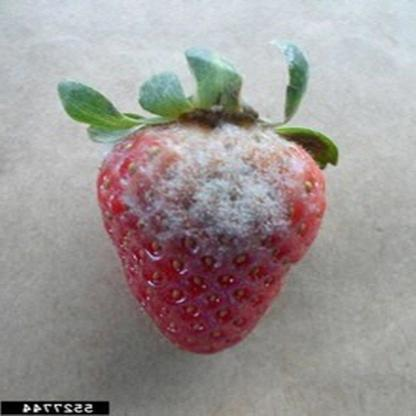Strawberry_Powdery_Mildew_Fruit: (102, 116, 328, 282)
